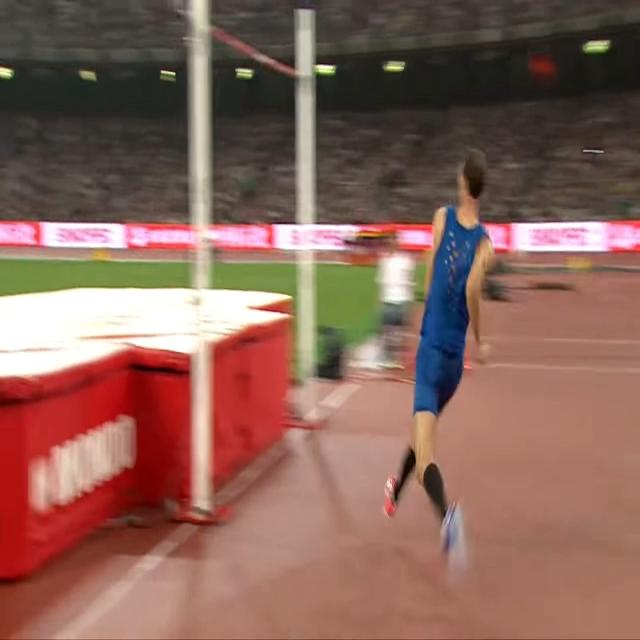run: (384, 143, 494, 571)
